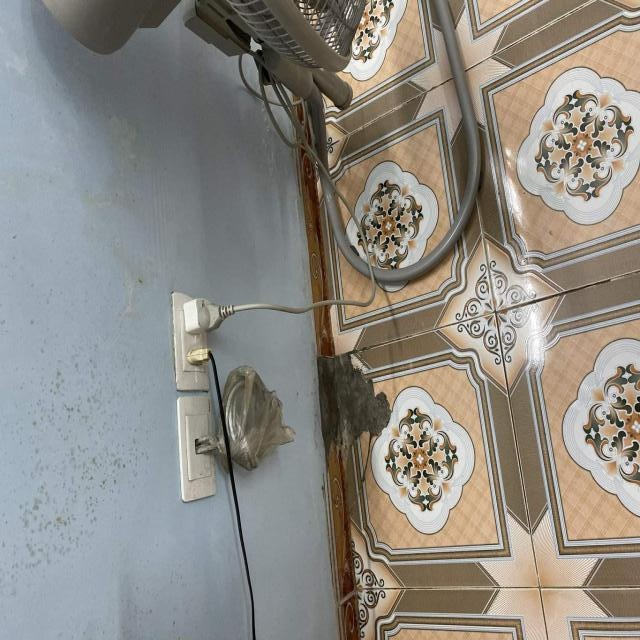outlet: (176, 396, 217, 503), (170, 292, 210, 392)
